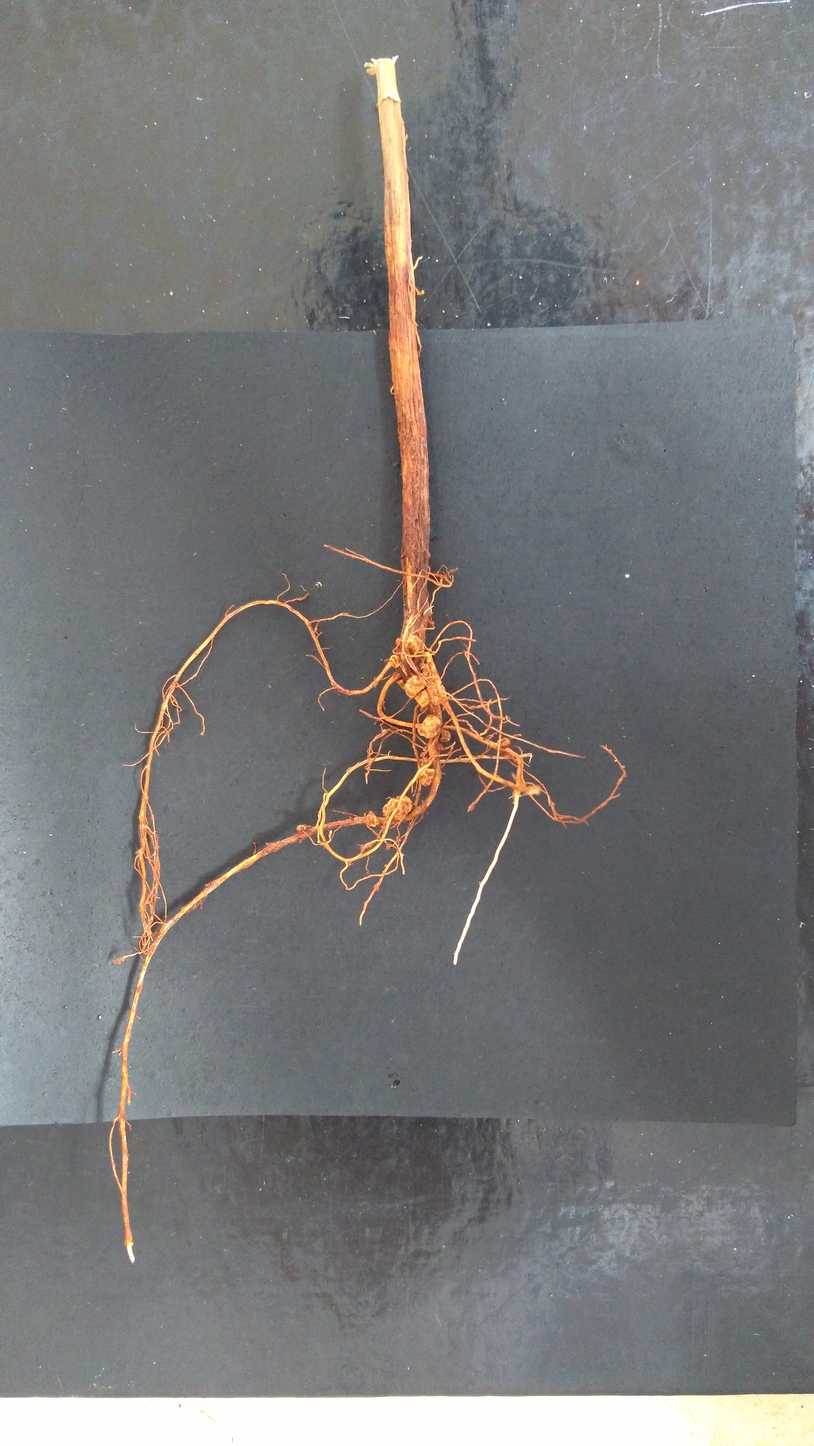nodule: (381, 796, 409, 821), (417, 714, 443, 740), (402, 675, 427, 700), (394, 794, 414, 814), (418, 766, 436, 788), (405, 634, 425, 653), (413, 689, 431, 708), (365, 812, 381, 829), (438, 727, 452, 744), (388, 653, 402, 669), (497, 736, 512, 749), (430, 695, 441, 707), (297, 824, 311, 832)
